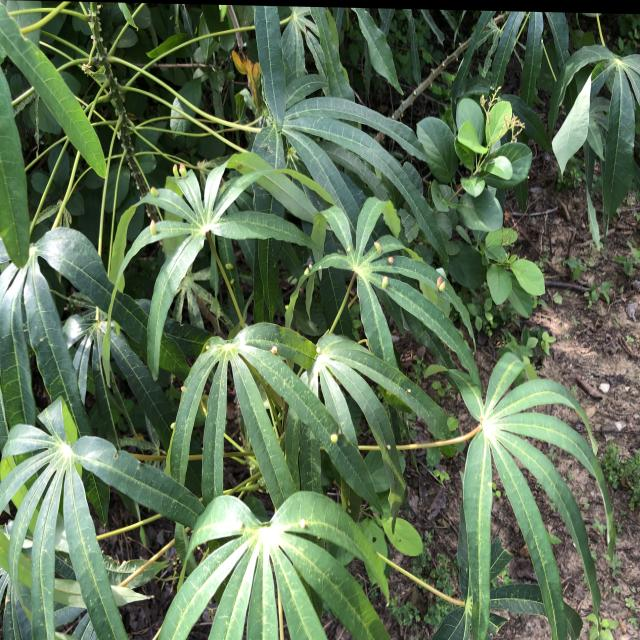Maleza: (424, 97, 522, 236), (472, 201, 540, 337)
Mosca: (369, 231, 400, 269), (426, 263, 451, 297), (322, 415, 345, 448), (256, 332, 282, 361), (218, 258, 239, 286), (169, 157, 192, 181), (396, 374, 418, 399), (140, 180, 164, 201), (145, 217, 166, 237), (279, 293, 300, 313), (376, 272, 393, 296), (159, 419, 183, 434), (301, 257, 318, 278), (177, 378, 196, 396)
